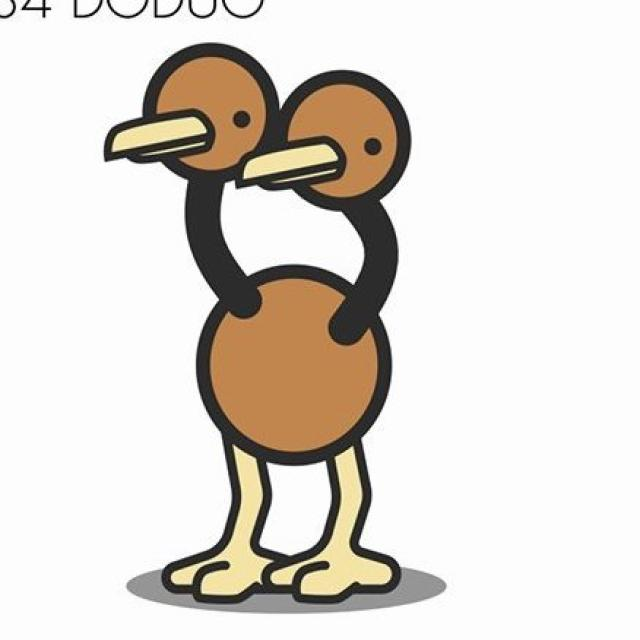Doduo: (105, 39, 422, 597)
